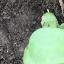Purslane: (5, 0, 64, 64)
